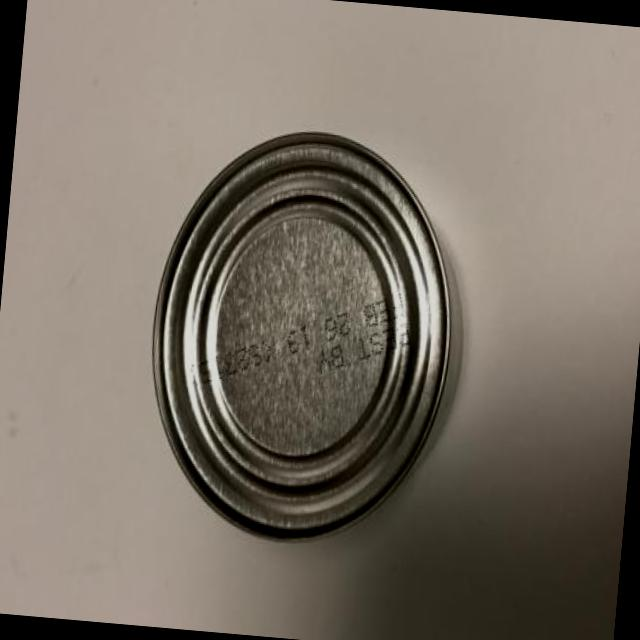kim_loai: (150, 132, 451, 540)
